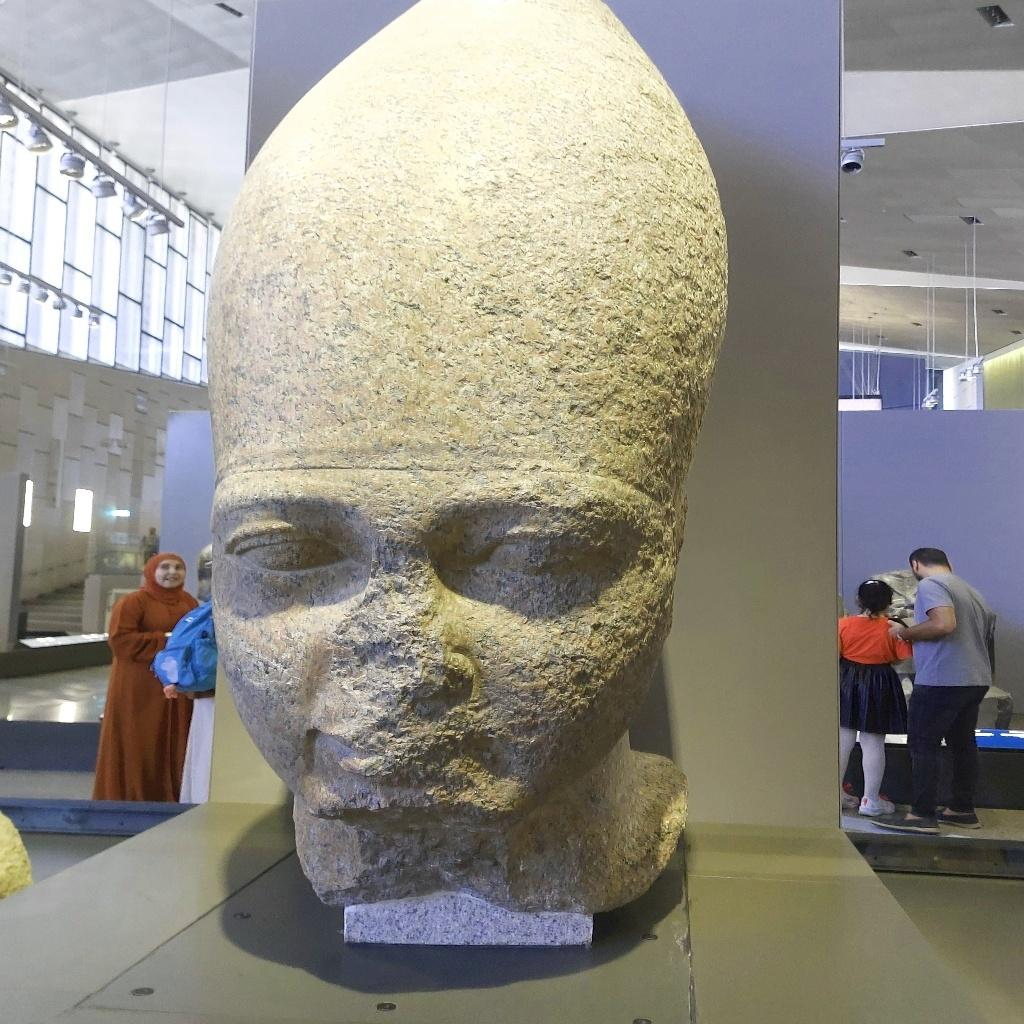Clossal head of Senwosret 1: (198, 0, 735, 945)
